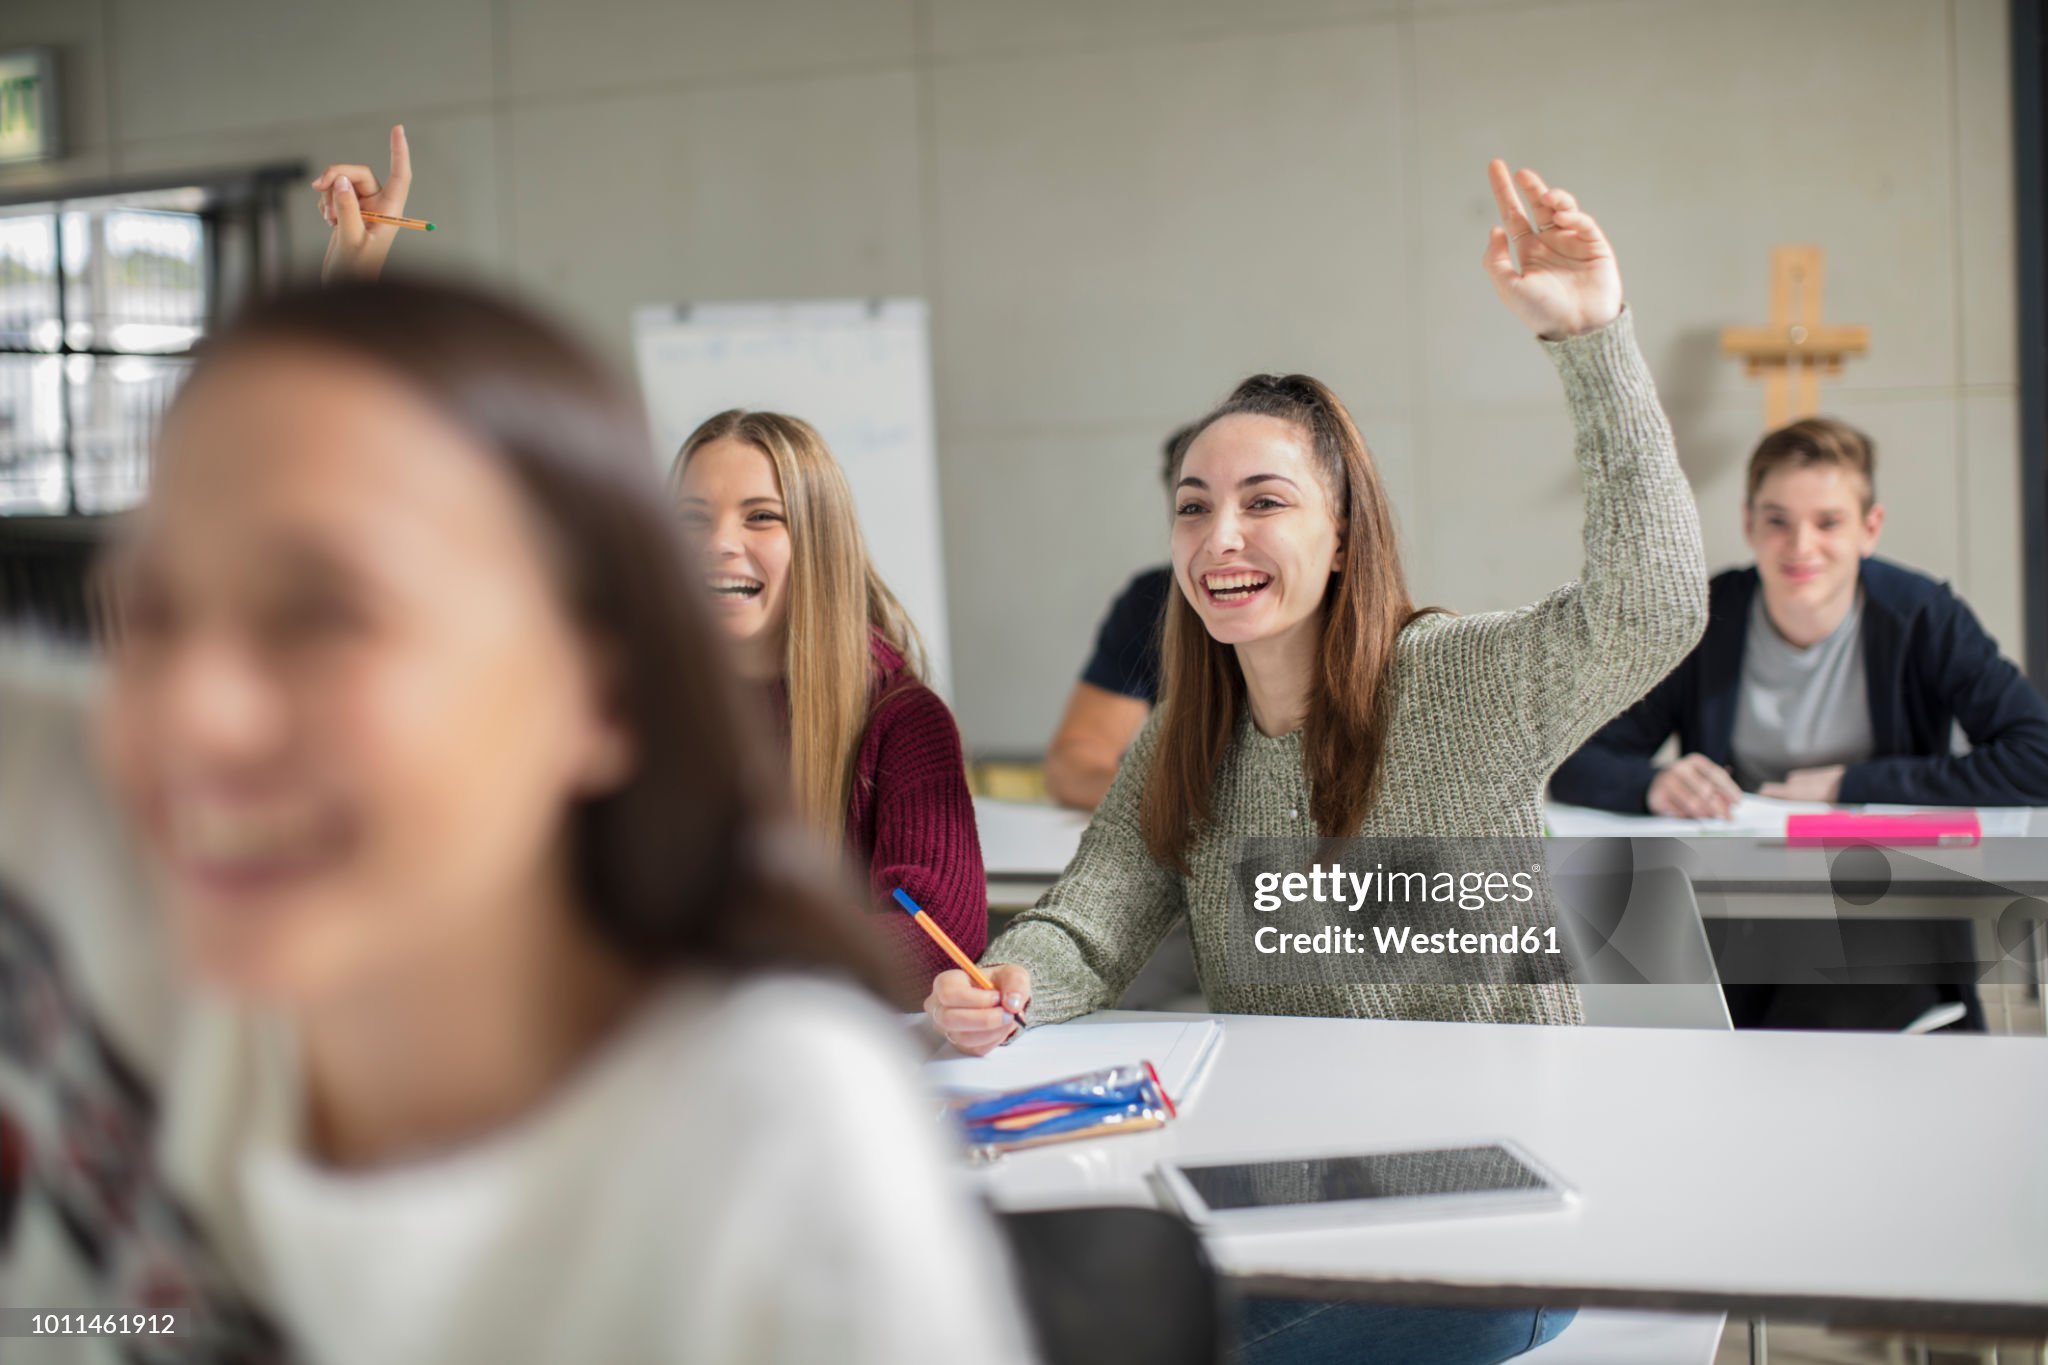entre-50-75-porcento: (6, 96, 2042, 1315)
